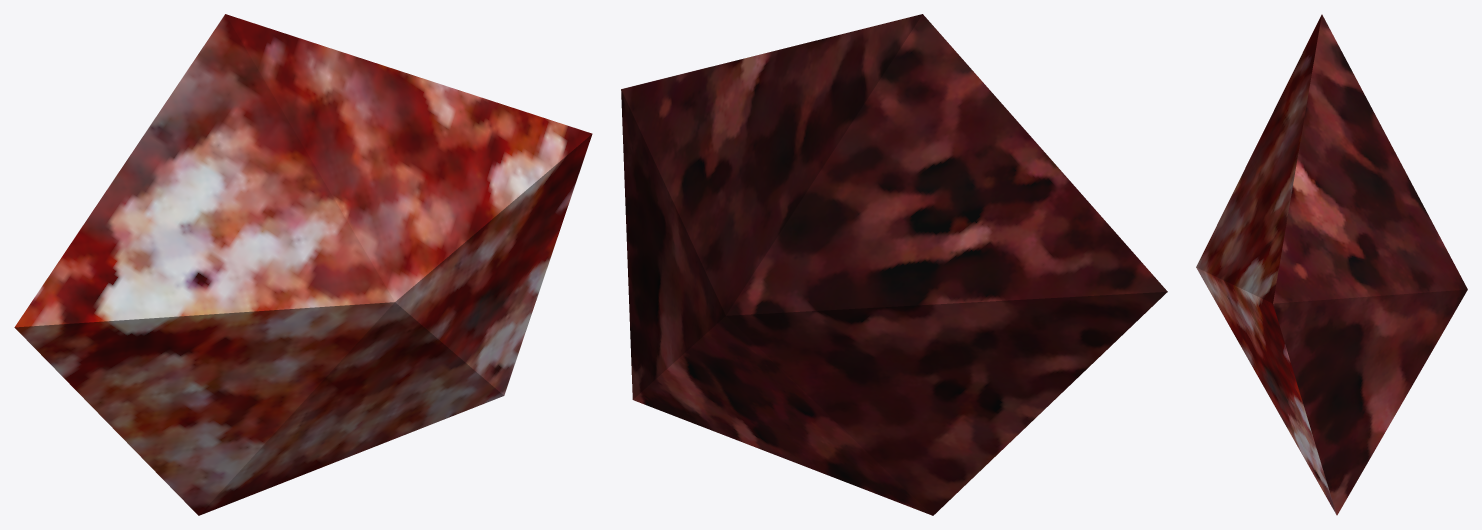
File: WendigoPieceOfFlesh1.fbx
3 views of the same model, side by side, from view 1: azimuth 30°, elevation 25°; view 2: azimuth 150°, elevation 25°; view 3: azimuth 270°, elevation 25° (orthographic). The views are drawn at different scales.
Visible parts, largest first — view 1: PieceOfFlesh1; view 2: PieceOfFlesh1; view 3: PieceOfFlesh1.
Boxes of the visible parts, bbox=[...] form: PieceOfFlesh1: bbox=[14, 14, 592, 515]; PieceOfFlesh1: bbox=[621, 14, 1167, 515]; PieceOfFlesh1: bbox=[1196, 14, 1467, 515].
Size of the model in its own units: 183 by 154 by 90.28.
